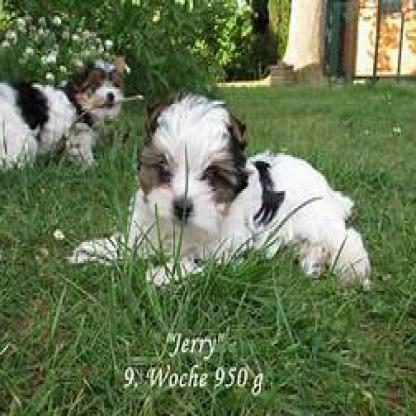dog: (69, 93, 383, 289), (0, 51, 132, 176)
